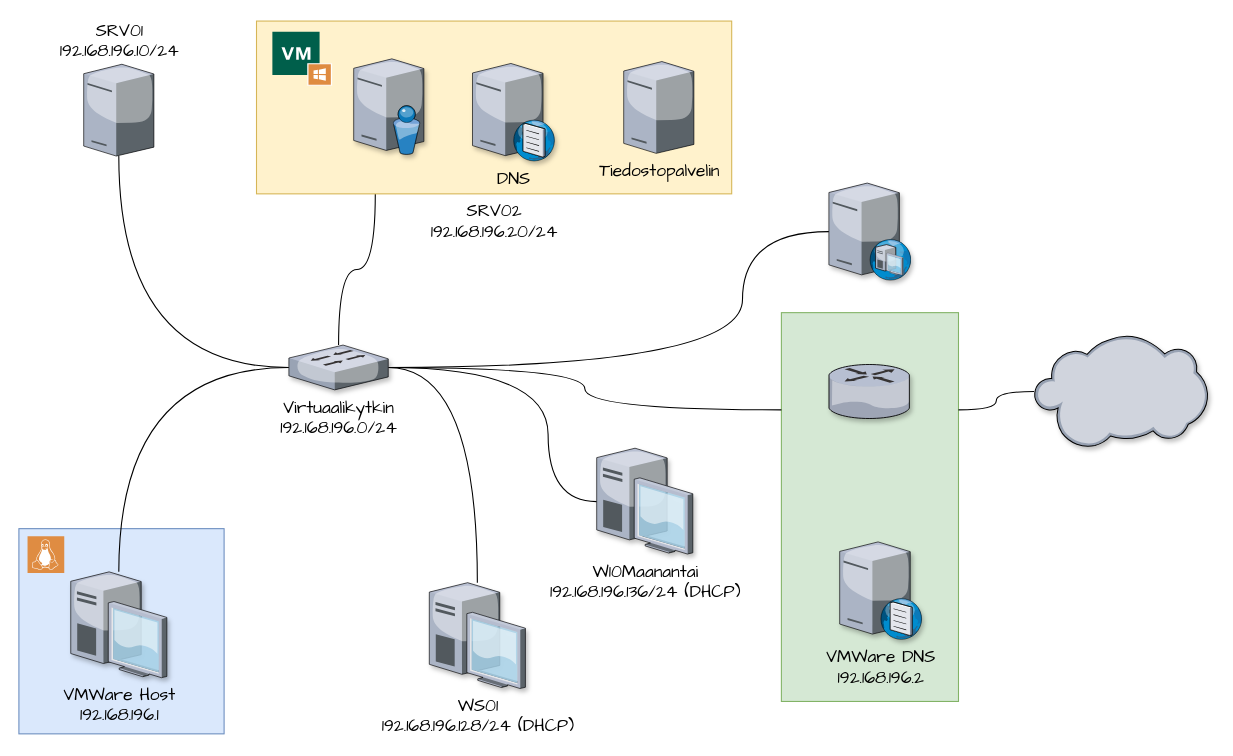
Some shapes in this 1233 by 756 pixel diagram are drawn without their labels. Each missing label, with the centre of its shape:
"AD" belongs at [389,107].
"Internet" belongs at [1121,392].
"Reititin 192.168.196.2" belongs at [870,393].
"VMWare DHCP 192.168.196.254" belongs at [870,232].
